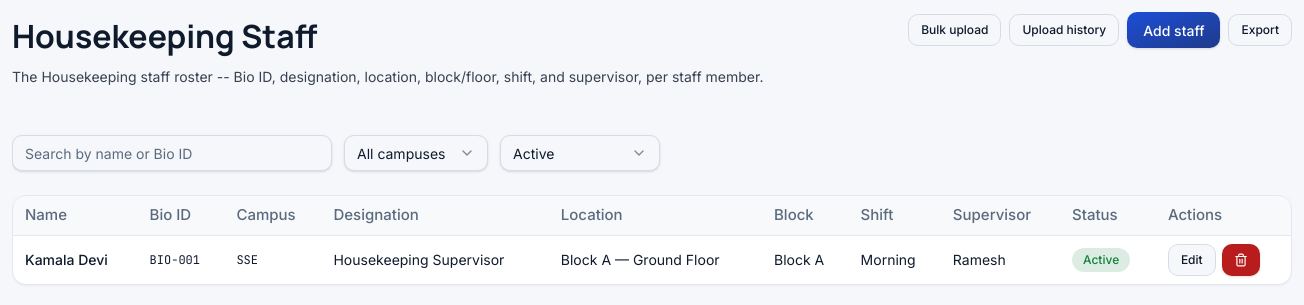
Test: HousekeepingStaffListPage › hides inactive staff by default, reachable via the Active filter
This screenshot has width=1304, height=305.
Expected: the text "Kamala Devi" is shown, left=13, top=235, right=138, bottom=284
Expected: the text "Suresh Kumar" is not shown
Step 1. Click the dropdown named "Active filter" → (580, 153), box left=500, top=135, right=660, bottom=171
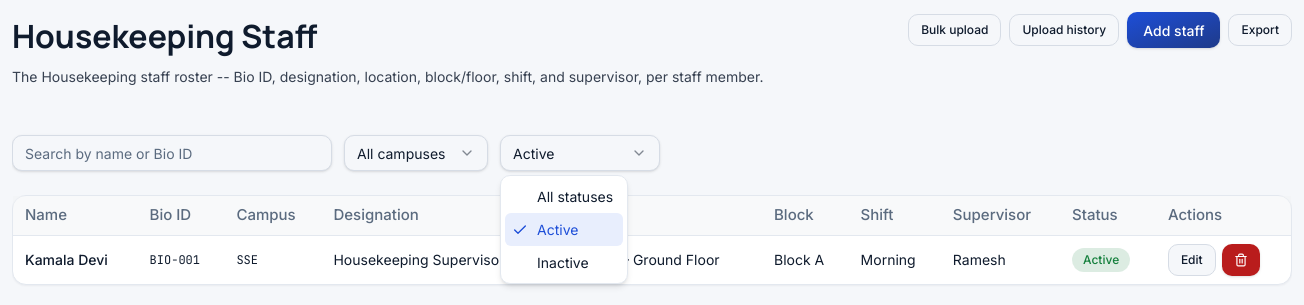
Step 2. Click the option "Inactive" → (563, 262), box left=537, top=254, right=589, bottom=271
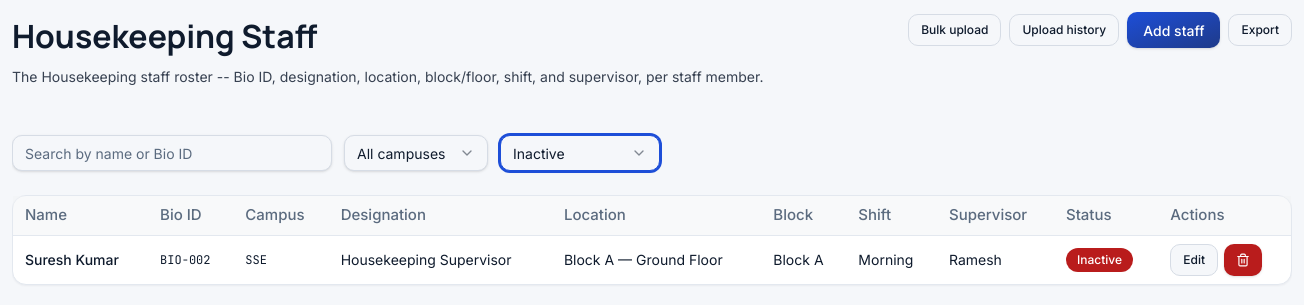
Now the text "Suresh Kumar" is shown, box left=13, top=235, right=148, bottom=284
Now the text "Kamala Devi" is gone
